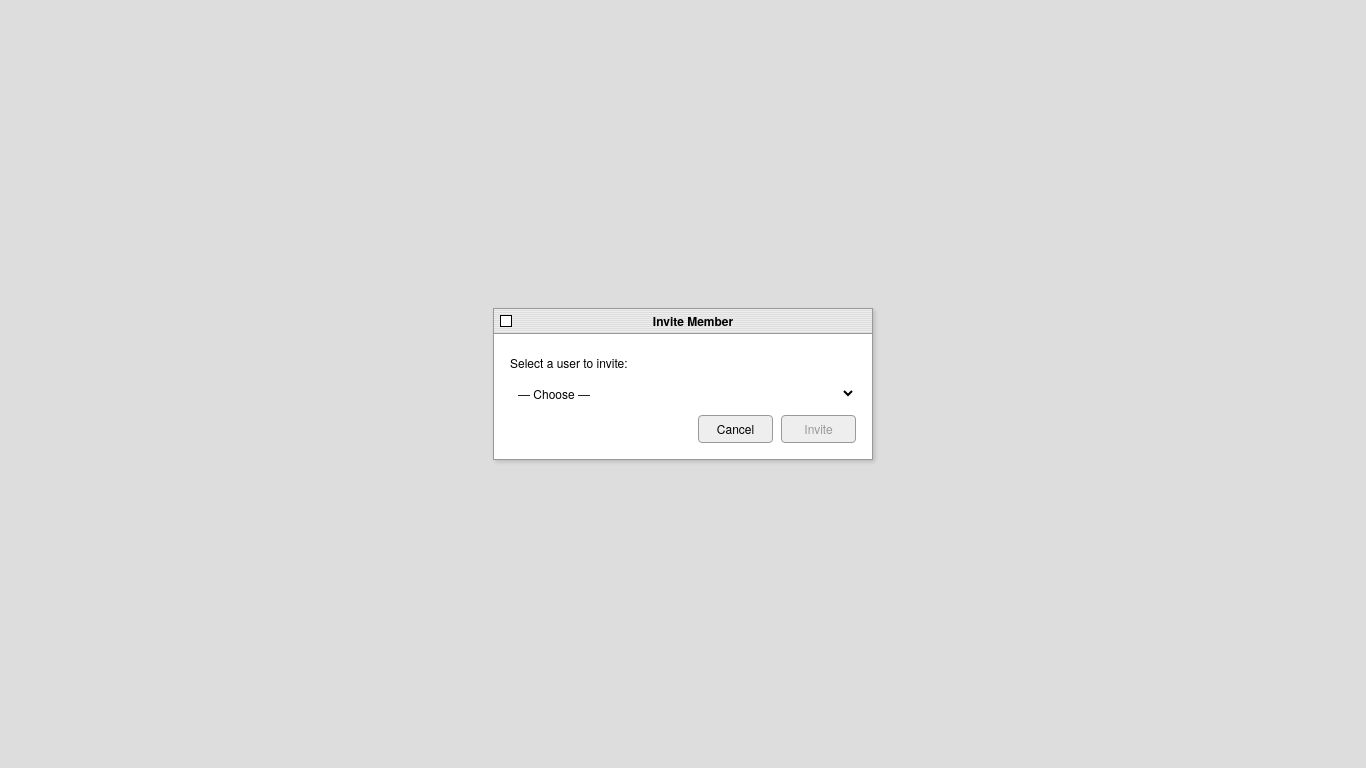
Scenario: InviteMemberModal › enables invite after selecting a member
Select "Bob" in the dropdown: (683, 394) [510,380,856,407]
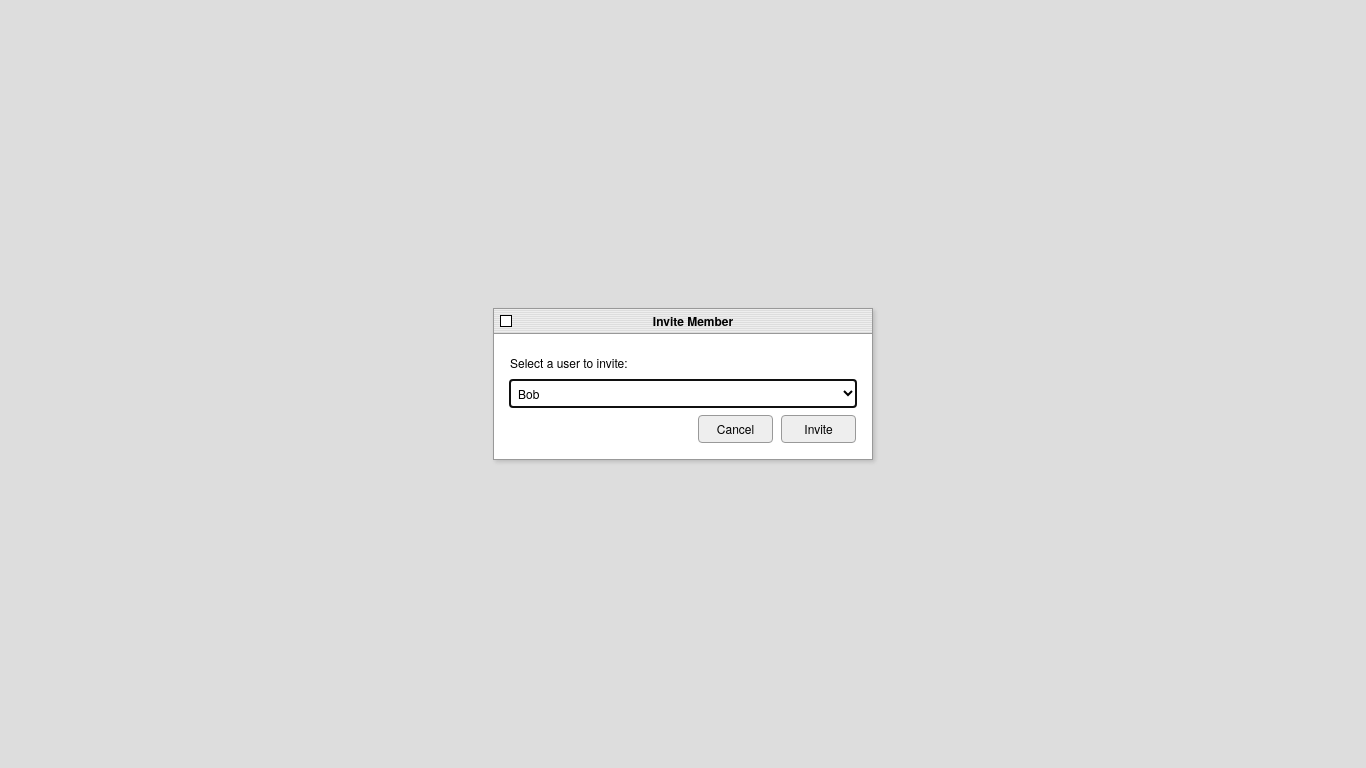
Result: the button "Invite" is enabled at [781,415,856,443]
